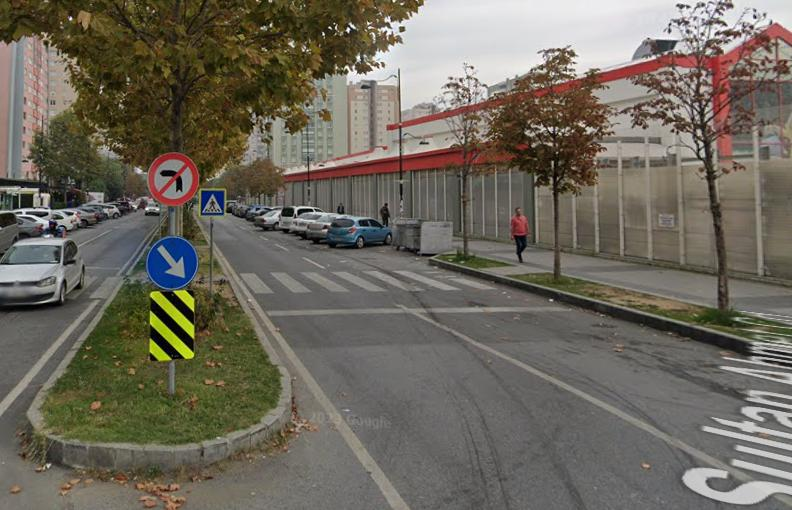leftturnsareforbidden: (151, 154, 197, 204)
